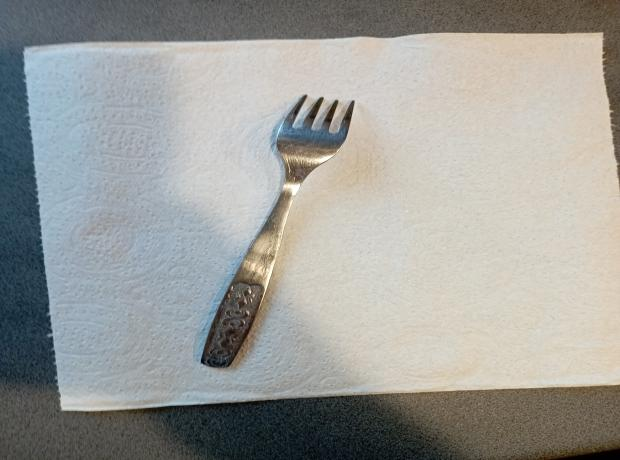metal: (199, 95, 361, 370)
